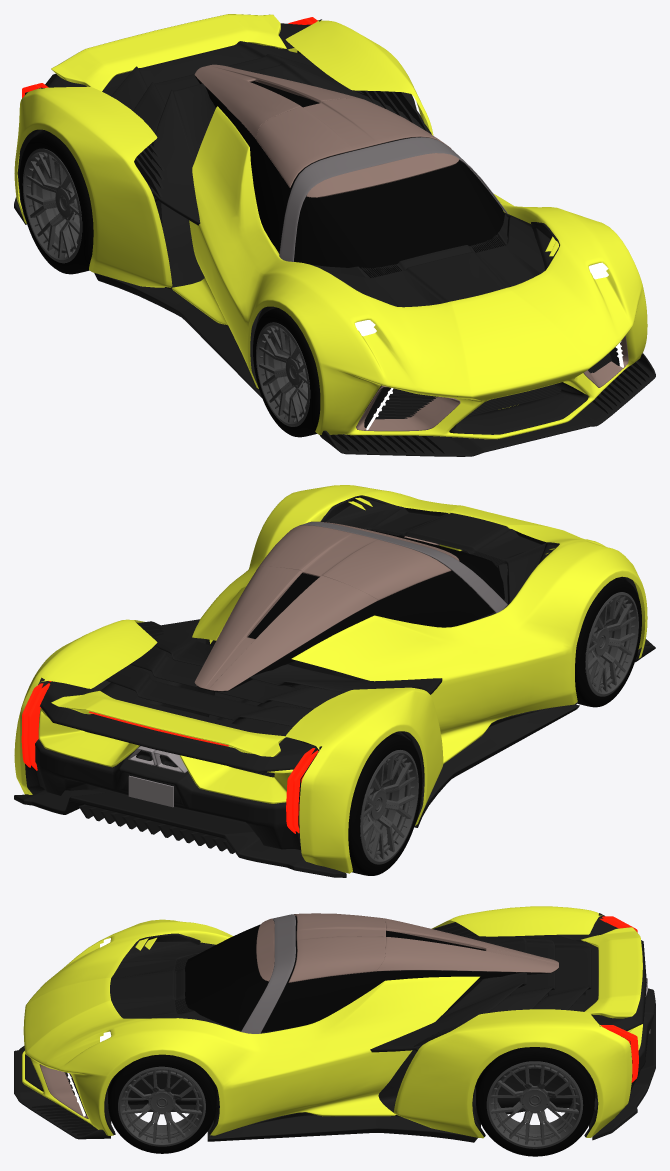
The model's file is concept.glb.
The picture shows the model from 3 angles, top to bottom: view 1: azimuth 30°, elevation 25°; view 2: azimuth 150°, elevation 25°; view 3: azimuth 270°, elevation 25°; orthographic projection. The views are drawn at different scales.
Parts seen in each view (by area): view 1: Frente - Body.003_26, CAixa Roda traseira_2, Frente - Body.001_24, Plane.001_33, Frente - Body.004_27, Teto.003_85, spoiler_83, Plane.003_35, Aro externo.001_0, Teto.004_86, Coluna prata_6, Aro externo.006_1 (+12 smaller); view 2: Frente - Body.003_26, CAixa Roda traseira_2, CAixa Roda traseira.001_3, Plane.001_33, Teto.004_86, Teto.003_85, Frente - Body.001_24, Frente - Body.004_27, Plane.006_38, CAixa Roda traseira.002_4, Aro externo.001_0, spoiler_83 (+11 smaller); view 3: Frente - Body.003_26, CAixa Roda traseira_2, Frente - Body.001_24, Plane.001_33, Frente - Body.004_27, Teto.003_85, Teto.004_86, Aro externo.001_0, Aro externo.006_1, Plane.005_37, Cylinder.003_22, spoiler_83 (+13 smaller).
Part boxes in pixels (box(x1,y1,x2,y2)): Frente - Body.003_26: box(172, 106, 647, 439); CAixa Roda traseira_2: box(14, 20, 433, 287); Frente - Body.001_24: box(195, 76, 504, 268); Plane.001_33: box(111, 41, 431, 225); Frente - Body.004_27: box(311, 212, 559, 307); Teto.003_85: box(256, 98, 451, 187); spoiler_83: box(51, 14, 286, 91); Plane.003_35: box(320, 353, 655, 456); Aro externo.001_0: box(22, 148, 82, 263); Teto.004_86: box(194, 64, 363, 139); Coluna prata_6: box(279, 137, 507, 261); Aro externo.006_1: box(256, 322, 310, 426); Frente - Body.003_26: box(192, 485, 647, 763); CAixa Roda traseira_2: box(14, 619, 443, 873); CAixa Roda traseira.001_3: box(25, 677, 321, 849); Plane.001_33: box(105, 619, 442, 726); Teto.004_86: box(194, 566, 377, 691); Teto.003_85: box(257, 525, 451, 600); Frente - Body.001_24: box(197, 528, 504, 691); Frente - Body.004_27: box(320, 495, 559, 607); Plane.006_38: box(14, 787, 346, 877); CAixa Roda traseira.002_4: box(38, 708, 293, 803); Aro externo.001_0: box(360, 750, 418, 864); spoiler_83: box(51, 690, 286, 756); Frente - Body.003_26: box(22, 919, 479, 1135); CAixa Roda traseira_2: box(394, 906, 632, 1138); Frente - Body.001_24: box(185, 916, 558, 1032); Plane.001_33: box(370, 935, 591, 1052); Frente - Body.004_27: box(110, 933, 241, 1031); Teto.003_85: box(288, 913, 385, 982); Teto.004_86: box(377, 918, 558, 972); Aro externo.001_0: box(486, 1061, 583, 1148); Aro externo.006_1: box(118, 1066, 205, 1146); Plane.005_37: box(129, 1104, 477, 1142); Cylinder.003_22: box(476, 1047, 594, 1156); spoiler_83: box(581, 927, 642, 1018).
Size of the model in its own units: 2.74 by 1.49 by 5.46.
